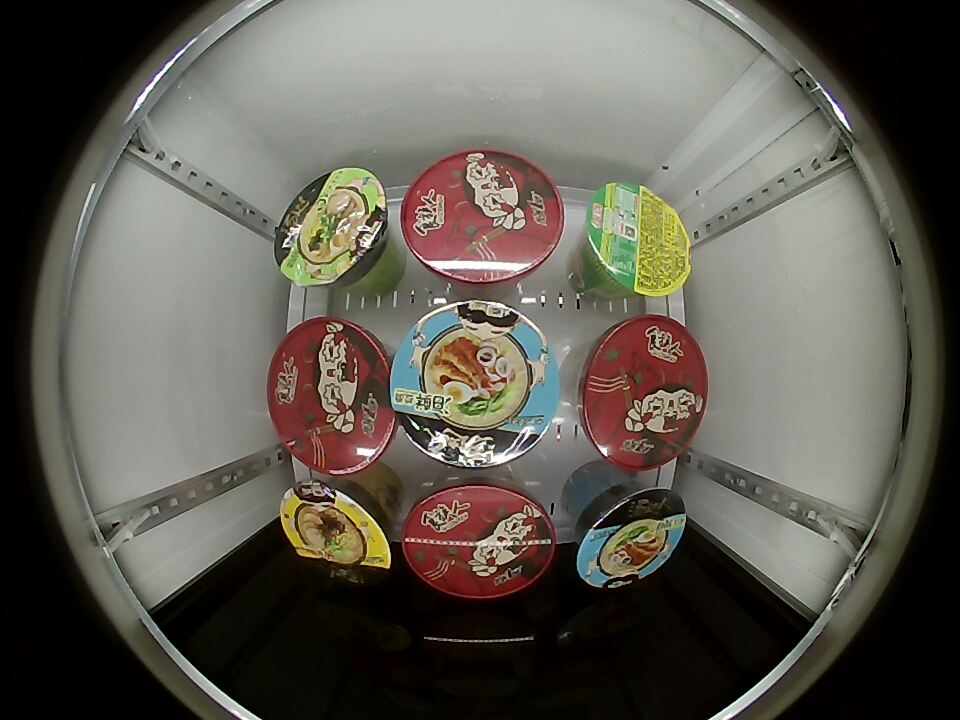heweidao2: (582, 181, 692, 297)
suanlafen: (400, 150, 566, 285), (267, 317, 399, 476), (575, 315, 709, 471), (400, 478, 558, 599)
tangdaren: (274, 167, 391, 288)
tangdaren2: (280, 478, 396, 585)
tangdaren3: (392, 299, 559, 468), (573, 482, 687, 589)
